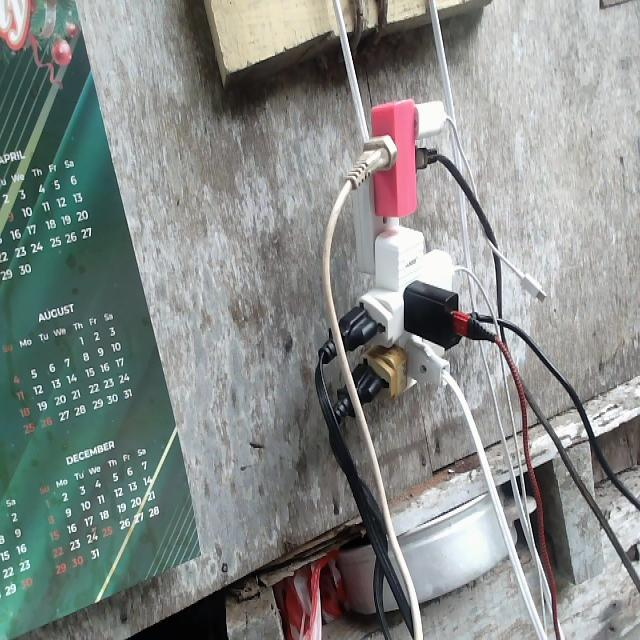-: (337, 96, 473, 400)
